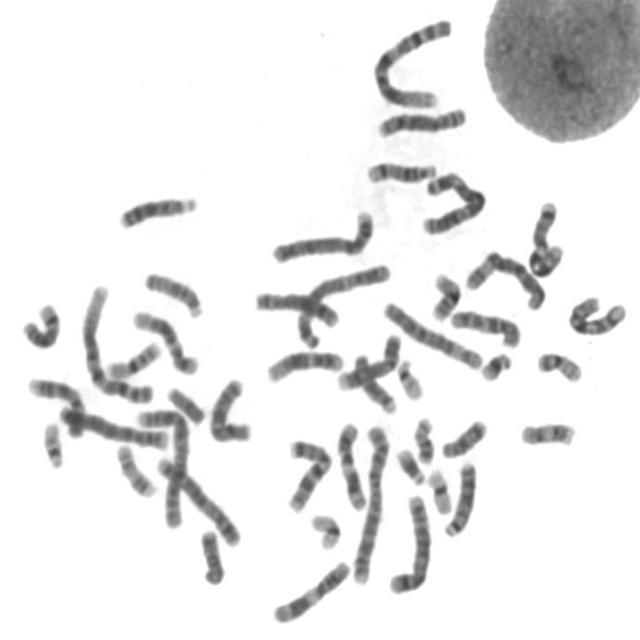A1: (75, 278, 157, 407), (368, 10, 456, 110)
A2: (128, 398, 192, 530), (347, 420, 392, 586)
A3: (291, 256, 394, 352), (416, 164, 489, 238)
B4: (266, 203, 376, 266), (51, 398, 170, 452)
B5: (149, 450, 243, 549), (383, 487, 434, 597)
C10: (445, 302, 523, 350), (563, 288, 629, 338)
C11: (266, 553, 354, 626), (331, 416, 369, 512)
C12: (127, 302, 201, 376), (261, 342, 347, 384)
C6: (378, 294, 485, 372), (459, 244, 548, 312)
C7: (280, 432, 334, 514), (523, 194, 567, 280)
C8: (249, 284, 342, 328), (371, 99, 470, 140)
C9: (21, 370, 89, 440), (332, 326, 404, 392)
D13: (114, 188, 200, 232), (438, 454, 479, 539)
D14: (16, 294, 63, 350), (360, 154, 440, 186)
D15: (138, 264, 206, 320), (348, 346, 399, 416)
E16: (100, 334, 162, 380), (425, 266, 464, 322)
E17: (110, 436, 158, 499), (515, 414, 578, 448)
E18: (436, 412, 490, 459), (194, 522, 227, 587)
F19: (422, 462, 456, 516), (304, 507, 344, 552)
F20: (532, 344, 585, 384), (408, 410, 438, 466)
G21: (391, 442, 428, 486), (476, 346, 514, 382)
G22: (392, 352, 426, 402), (36, 414, 66, 469)
X: (203, 370, 254, 444)
Y: (160, 378, 207, 426)
